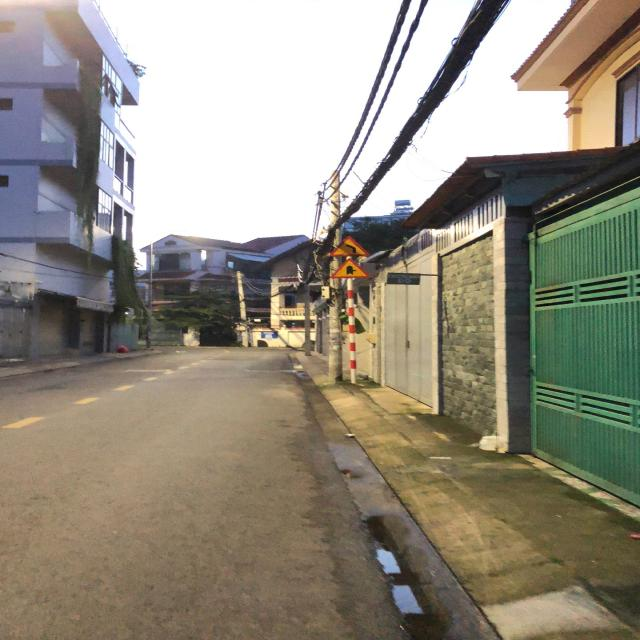Bien bao cho ngoat nguy hiem: (326, 233, 372, 253)
Bien bao giao nhau voi duong khong uu tien: (327, 256, 374, 278)
